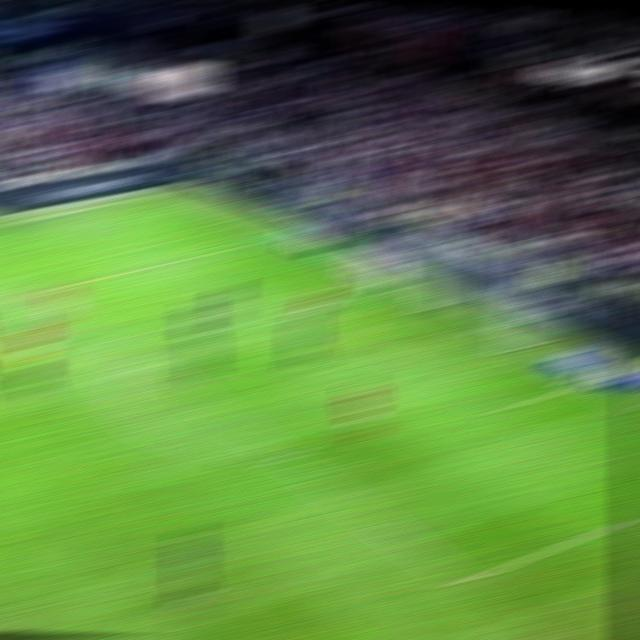bigarea_bottom_inner: (443, 565, 484, 594)
bigarea_top_inner: (20, 279, 55, 300)
bigarea_top_outter: (255, 229, 287, 245)
bottom_arc_area_intersection: (265, 443, 304, 469)
corner: (155, 184, 191, 197)
smallarea_bottom_inner: (479, 395, 516, 420)
smallarea_bottom_outter: (567, 375, 599, 390)
smallarea_top_inner: (280, 293, 312, 312)
smallarea_top_outter: (350, 274, 388, 294)
top_arc_area_intersection: (120, 347, 156, 368)
